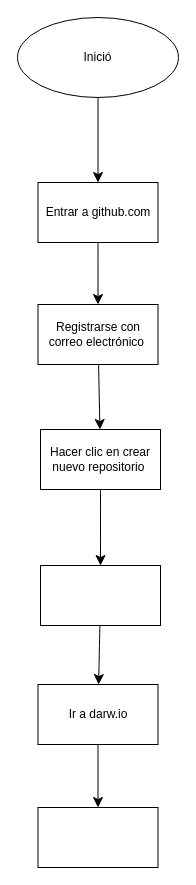
The diagram is 196 pixels wide and 885 high, and some of its shapes have lost their labels. The centre of each missing label's shape, as x and y in pixels:
Acceder a la cuenta de gitbub: point 97,837
Ingresar datos y darle a crear: point 100,595
